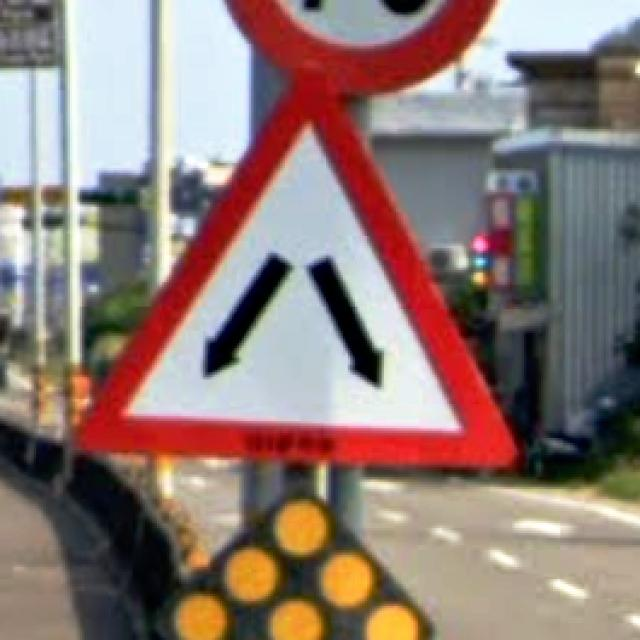diverge: (71, 59, 526, 456)
